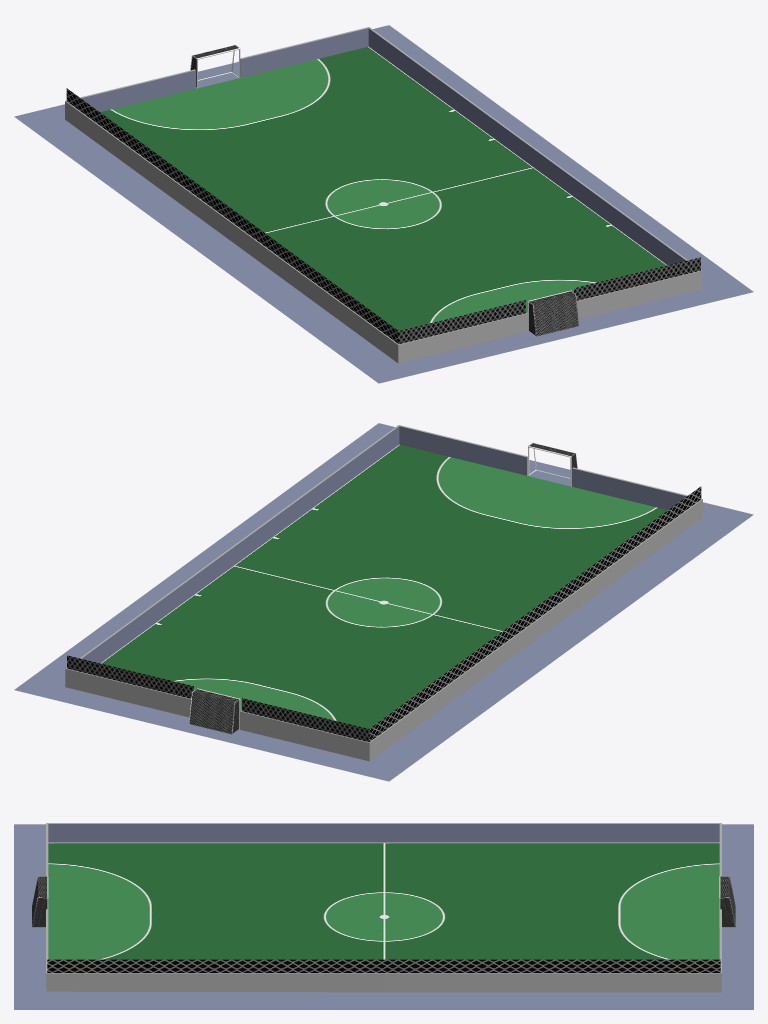
3 views of the same model, one above another, from view 1: azimuth 30°, elevation 25°; view 2: azimuth 150°, elevation 25°; view 3: azimuth 270°, elevation 25° (orthographic).
Visible parts, largest first — view 1: Mesh; view 2: Mesh; view 3: Mesh.
Part boxes in pixels (left/top/right/bottom): Mesh: left=14, top=25, right=753, bottom=383; Mesh: left=14, top=423, right=753, bottom=781; Mesh: left=14, top=823, right=753, bottom=1009.
Size of the model in its own units: 27.5 by 2.22 by 46.3.
Materials: 7 (5 with a texture image).
